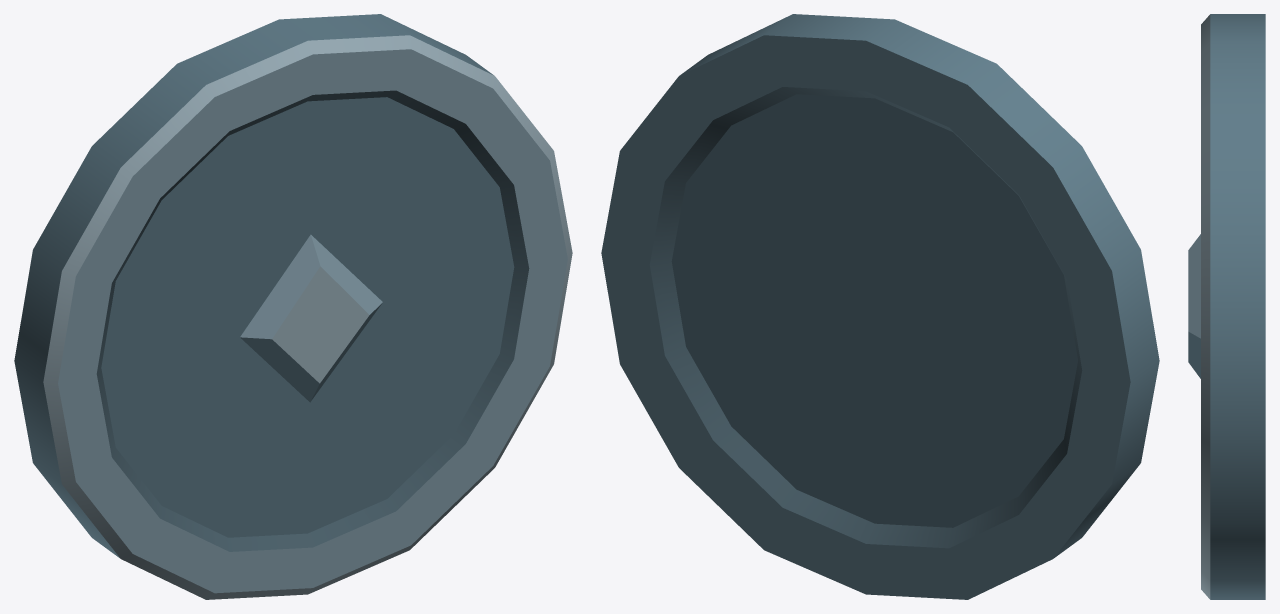
File: wp cap3b.fbx
3 renders of one model, left to right at view 1: azimuth 30°, elevation 25°; view 2: azimuth 150°, elevation 25°; view 3: azimuth 270°, elevation 25°, orthographic. The views are drawn at different scales.
Parts seen in each view (by area): view 1: wp_cap3b; view 2: wp_cap3b; view 3: wp_cap3b.
Part boxes in pixels (box(x1,y1,x2,y2)): wp_cap3b: box(14, 14, 572, 599); wp_cap3b: box(601, 14, 1159, 599); wp_cap3b: box(1188, 14, 1265, 599).
Size of the model in its own units: 98.89 by 98.89 by 13.14.
1 material, 1 textured.
